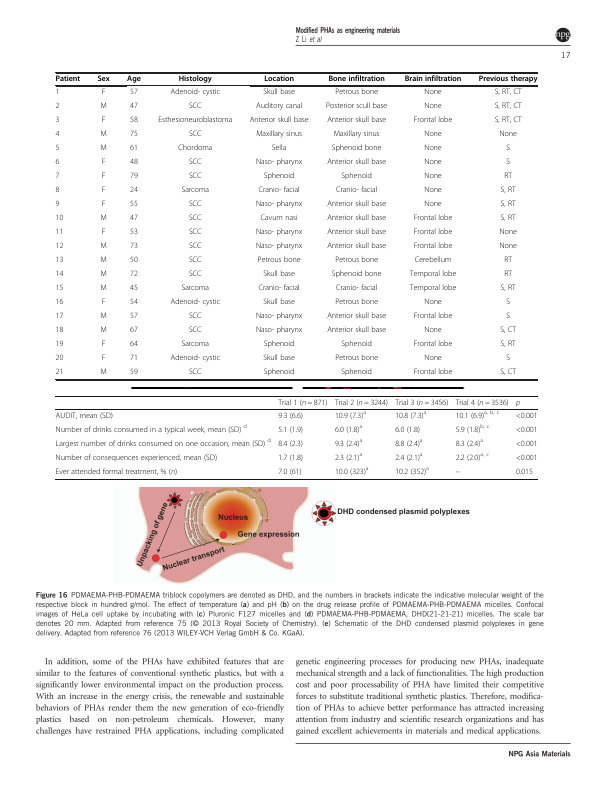borderless: (54, 71, 537, 379), (54, 394, 538, 479)
cell: (55, 437, 272, 449), (55, 423, 248, 435), (55, 453, 218, 463), (55, 467, 178, 477), (157, 116, 233, 126), (325, 102, 388, 112), (326, 116, 387, 126), (326, 158, 387, 168), (326, 200, 387, 210), (326, 214, 387, 224), (326, 228, 387, 238), (326, 242, 387, 252), (326, 312, 387, 322), (326, 326, 387, 336), (249, 116, 309, 126), (55, 411, 114, 421), (455, 409, 500, 421), (478, 75, 538, 84), (327, 75, 386, 84), (404, 75, 462, 84), (169, 88, 221, 98), (169, 298, 221, 308), (169, 354, 221, 364), (331, 144, 382, 154), (331, 270, 382, 280), (334, 398, 389, 407), (394, 398, 449, 407), (455, 398, 510, 407), (255, 102, 303, 112), (255, 130, 303, 140), (255, 158, 303, 168), (255, 200, 303, 210), (255, 228, 303, 238), (255, 242, 303, 252), (409, 270, 457, 280), (409, 284, 457, 294), (255, 312, 303, 322), (255, 326, 303, 336), (333, 130, 380, 140), (277, 398, 328, 407), (334, 88, 379, 98), (334, 256, 379, 266), (334, 298, 379, 308), (334, 354, 379, 364), (257, 186, 301, 196), (257, 256, 301, 266), (257, 284, 301, 294), (394, 465, 430, 477), (335, 186, 378, 196), (335, 284, 378, 294), (455, 423, 490, 435), (455, 451, 490, 463), (334, 465, 369, 477), (413, 116, 453, 126), (259, 214, 299, 224), (413, 214, 453, 224), (413, 228, 453, 238), (413, 242, 453, 252), (413, 312, 453, 322), (413, 340, 453, 350), (413, 368, 453, 378), (334, 409, 367, 421), (394, 409, 427, 421), (414, 256, 452, 266), (177, 144, 213, 154), (334, 423, 363, 435), (334, 437, 363, 449), (394, 437, 423, 449), (455, 437, 484, 449), (334, 451, 363, 463), (394, 451, 423, 463), (262, 88, 296, 98), (262, 270, 296, 280), (262, 298, 296, 308), (262, 354, 296, 364), (340, 172, 373, 182), (340, 340, 373, 350), (340, 368, 373, 378), (263, 172, 295, 182), (263, 340, 295, 350), (263, 368, 295, 378), (178, 75, 213, 84), (180, 186, 210, 196), (180, 284, 210, 294), (180, 340, 210, 350), (494, 88, 523, 98), (494, 102, 523, 112), (494, 116, 523, 126), (263, 75, 295, 84), (277, 411, 304, 421), (277, 425, 304, 435), (394, 425, 421, 435), (277, 439, 304, 449), (277, 453, 304, 463), (277, 467, 302, 477), (55, 75, 81, 84), (515, 411, 538, 421), (515, 425, 538, 435), (515, 439, 538, 449), (515, 453, 538, 463), (423, 88, 443, 98), (423, 102, 443, 112), (423, 130, 443, 140), (498, 130, 518, 140), (423, 144, 443, 154), (423, 158, 443, 168), (423, 172, 443, 182), (423, 186, 443, 196), (423, 200, 443, 210), (498, 228, 518, 238), (498, 242, 518, 252), (423, 298, 443, 308), (423, 326, 443, 336), (423, 354, 443, 364), (515, 467, 534, 477), (499, 326, 517, 336), (499, 368, 517, 378), (500, 186, 517, 196), (500, 200, 517, 210), (500, 214, 517, 224), (500, 284, 517, 294), (500, 340, 517, 350), (271, 144, 287, 154), (126, 75, 142, 84), (188, 102, 202, 112), (188, 130, 202, 140), (188, 158, 202, 168), (188, 172, 202, 182), (188, 200, 202, 210), (188, 214, 202, 224), (188, 228, 202, 238), (188, 242, 202, 252), (188, 256, 202, 266), (188, 270, 202, 280), (188, 312, 202, 322), (188, 326, 202, 336), (188, 368, 202, 378), (96, 75, 111, 84), (129, 88, 139, 98), (129, 102, 139, 112), (129, 116, 139, 126), (129, 130, 139, 140), (129, 144, 139, 154), (129, 158, 139, 168), (129, 172, 139, 182), (503, 172, 513, 182), (129, 186, 139, 196), (129, 200, 139, 210), (129, 214, 139, 224), (129, 228, 139, 238), (129, 242, 139, 252), (129, 256, 139, 266), (503, 256, 513, 266), (129, 270, 139, 280), (503, 270, 513, 280), (129, 284, 139, 294), (129, 298, 139, 308), (129, 312, 139, 322), (129, 326, 139, 336), (129, 340, 139, 350), (129, 354, 139, 364), (129, 368, 139, 378), (99, 102, 108, 112), (99, 130, 108, 140), (99, 144, 108, 154), (55, 214, 64, 224), (99, 214, 108, 224), (55, 228, 64, 238), (55, 242, 64, 252), (99, 242, 108, 252), (55, 256, 64, 266), (99, 256, 108, 266), (55, 270, 64, 280), (99, 270, 108, 280), (55, 284, 64, 294), (99, 284, 108, 294), (55, 298, 64, 308), (55, 312, 64, 322), (99, 312, 108, 322), (55, 326, 64, 336), (99, 326, 108, 336), (55, 340, 64, 350), (55, 354, 64, 364), (55, 368, 64, 378), (99, 368, 108, 378), (505, 144, 511, 154), (505, 158, 511, 168), (505, 298, 511, 308), (505, 312, 511, 322), (505, 354, 511, 364), (55, 88, 60, 98), (101, 88, 106, 98), (55, 102, 60, 112), (55, 116, 60, 126), (101, 116, 106, 126), (55, 130, 60, 140), (55, 144, 60, 154), (55, 158, 60, 168), (101, 158, 106, 168), (55, 172, 60, 182), (101, 172, 106, 182), (55, 186, 60, 196), (101, 186, 106, 196), (55, 200, 60, 210), (101, 200, 106, 210), (101, 228, 106, 238), (101, 298, 106, 308), (101, 340, 106, 350), (101, 354, 106, 364), (515, 400, 521, 407), (455, 471, 461, 475)
